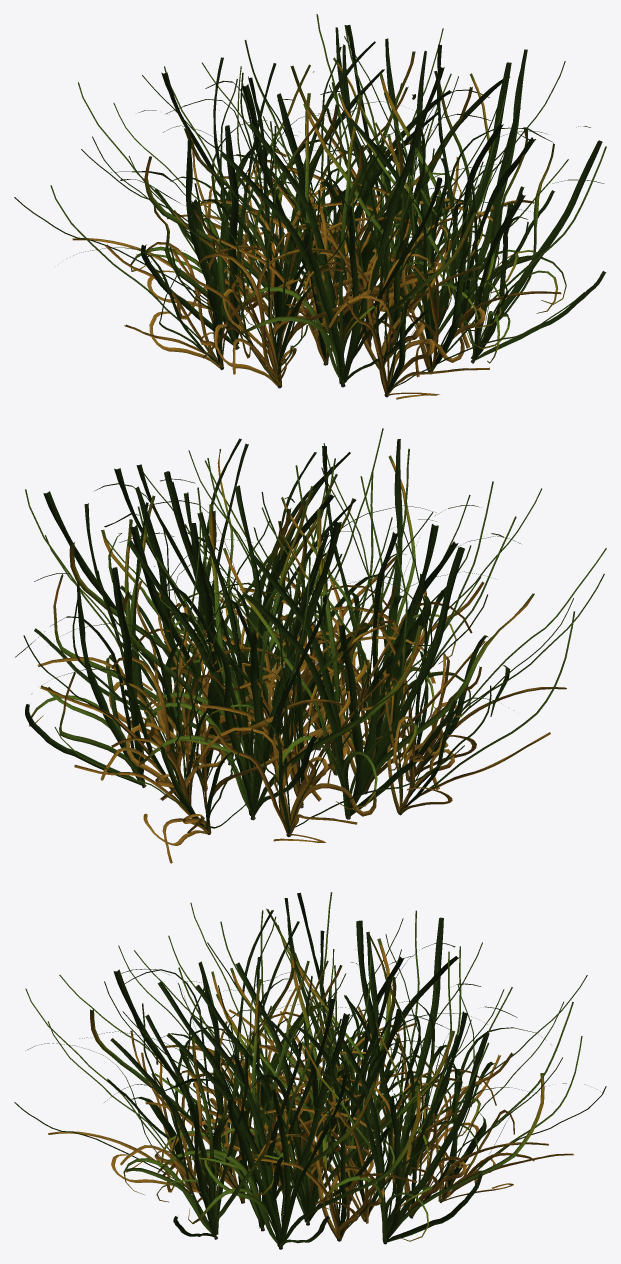
Rendered from Cocksfoot_Clump_03.fbx.
3 views of the same model, one above another, from view 1: azimuth 30°, elevation 25°; view 2: azimuth 150°, elevation 25°; view 3: azimuth 270°, elevation 25° (orthographic). The views are drawn at different scales.
Visible parts, largest first — view 1: Cocksfoot_Clump_03; view 2: Cocksfoot_Clump_03; view 3: Cocksfoot_Clump_03.
Boxes of the visible parts, left/top/right/bottom form: Cocksfoot_Clump_03: left=14, top=14, right=606, bottom=399; Cocksfoot_Clump_03: left=15, top=428, right=606, bottom=863; Cocksfoot_Clump_03: left=14, top=892, right=606, bottom=1249.
Bounding box in the file's own units: 100 × 51.46 × 110.
Materials: 6 (6 with a texture image).
